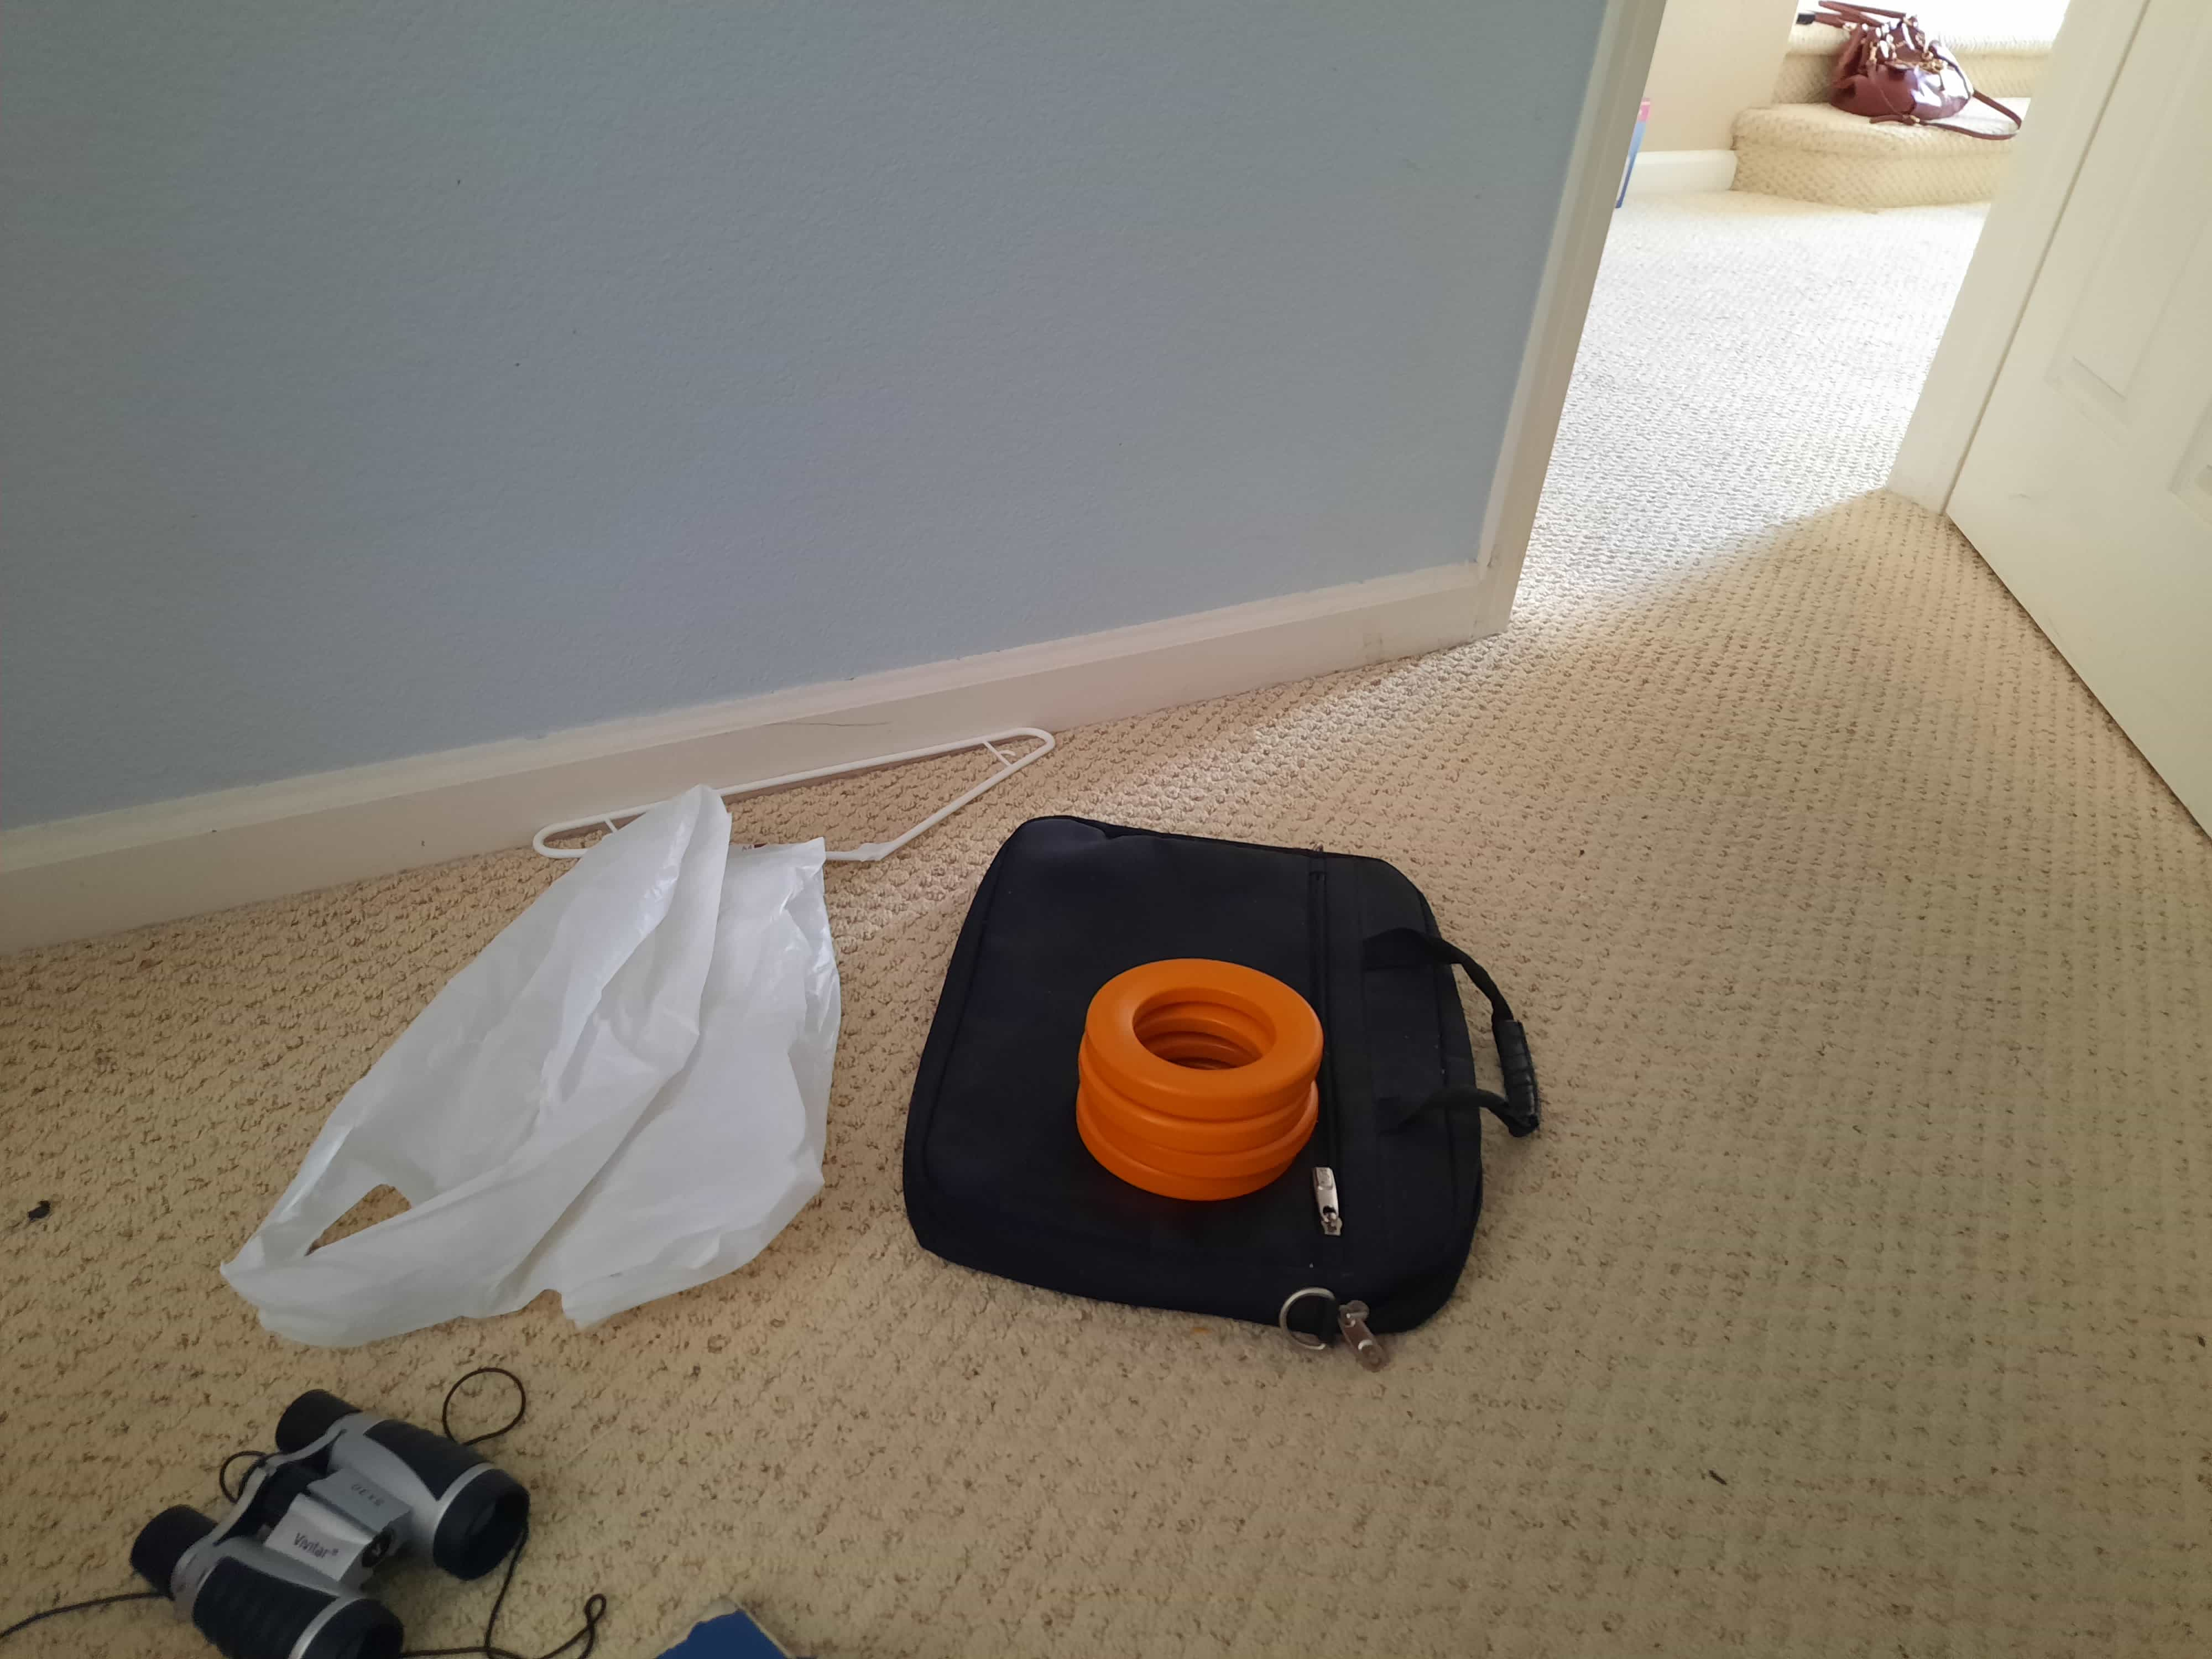FourStack: (1075, 948, 1325, 1202)
